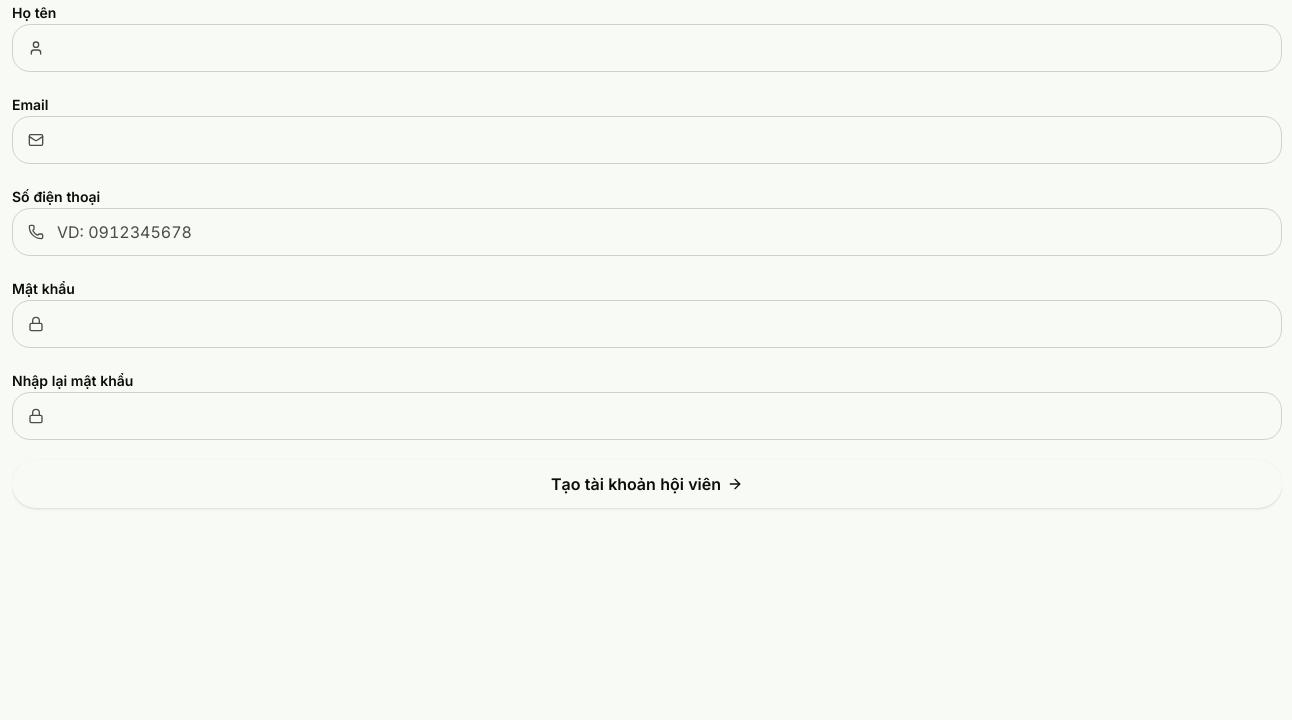
Test: auth account forms › shows duplicate phone error on signup
Step 1. Type "Existing Phone" into the field labelled "Họ tên" → (647, 48), box [12, 24, 1282, 72]
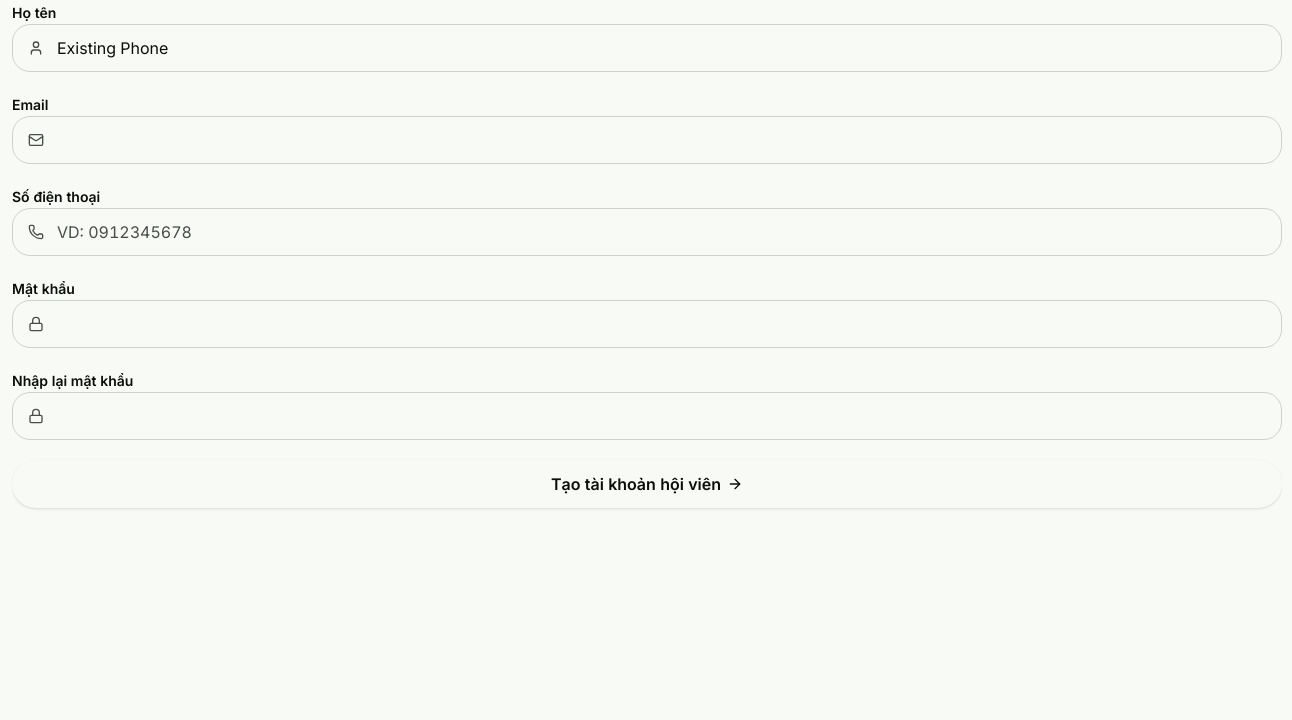
Step 2. Type "new-phone@gymmaster.local" into the field labelled "Email" → (647, 140), box [12, 116, 1282, 164]
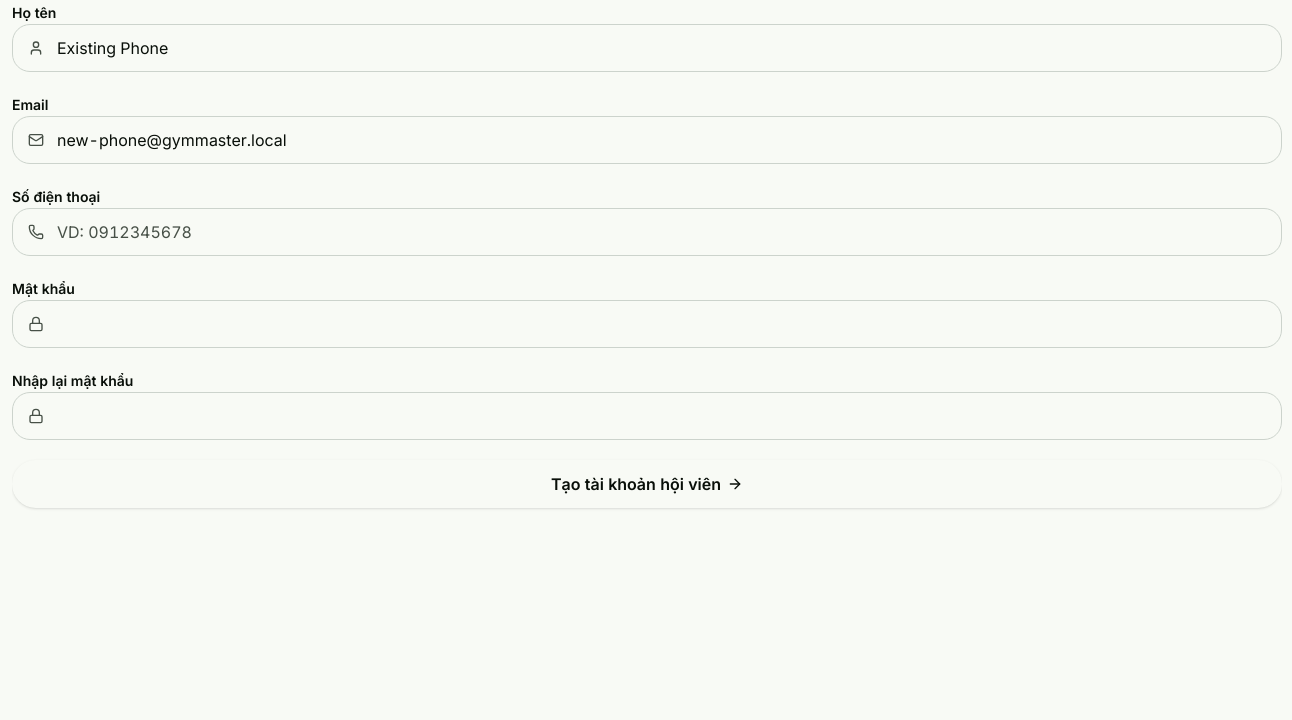
Step 3. Type "0900000000" into the field labelled "Số điện thoại" → (647, 232), box [12, 208, 1282, 256]
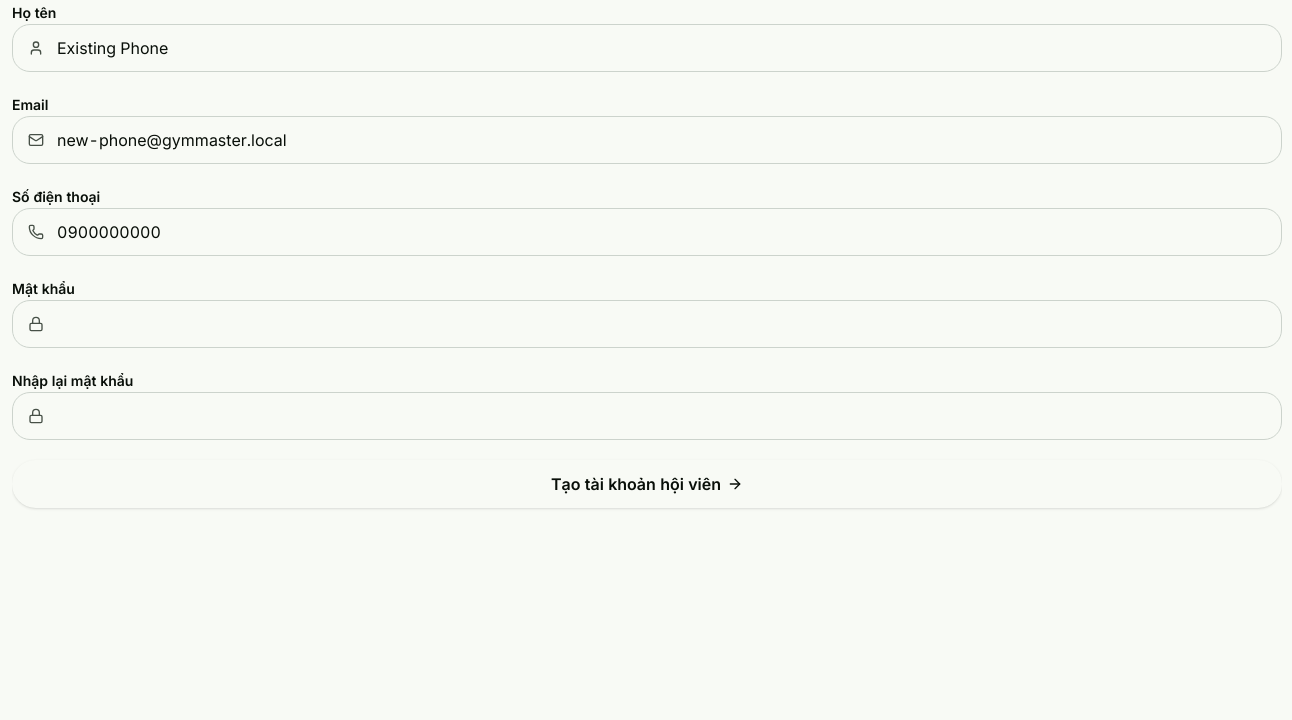
Step 4. Type "Password123!" into the password field labelled "Mật khẩu" → (647, 324), box [12, 300, 1282, 348]
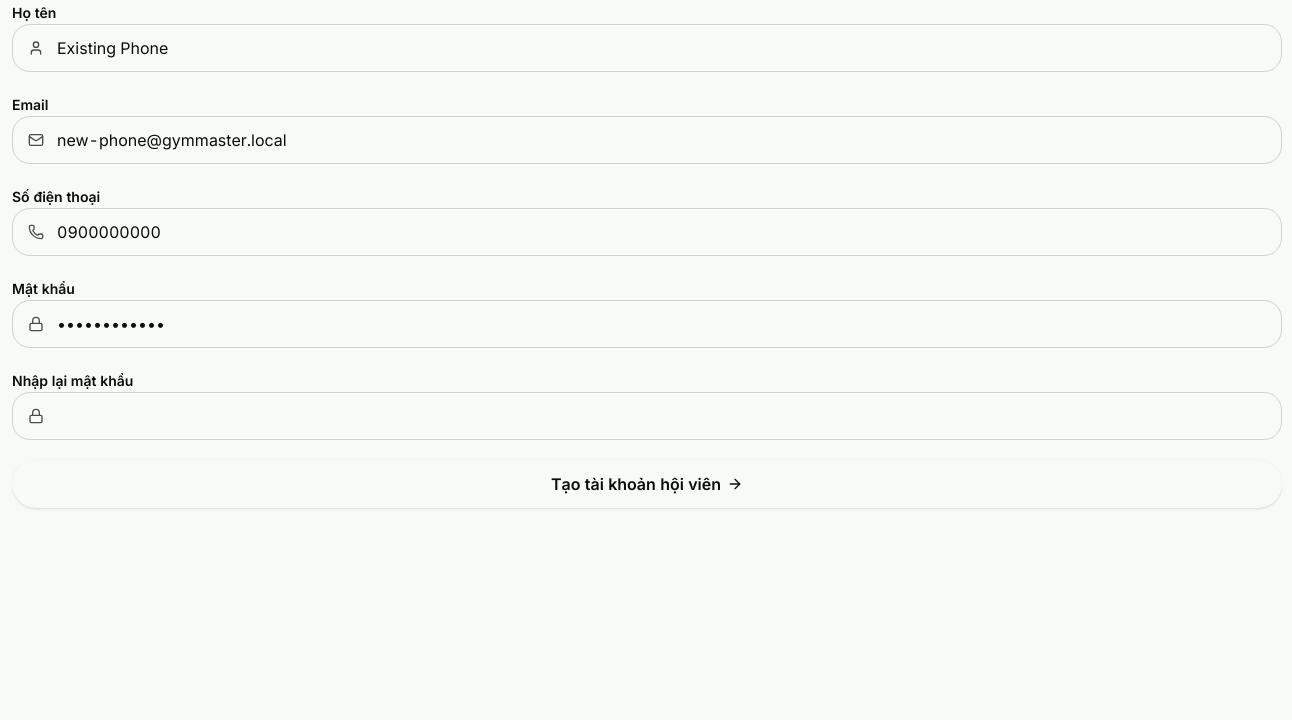
Step 5. Type "Password123!" into the password field labelled "Nhập lại mật khẩu" → (647, 416), box [12, 392, 1282, 440]
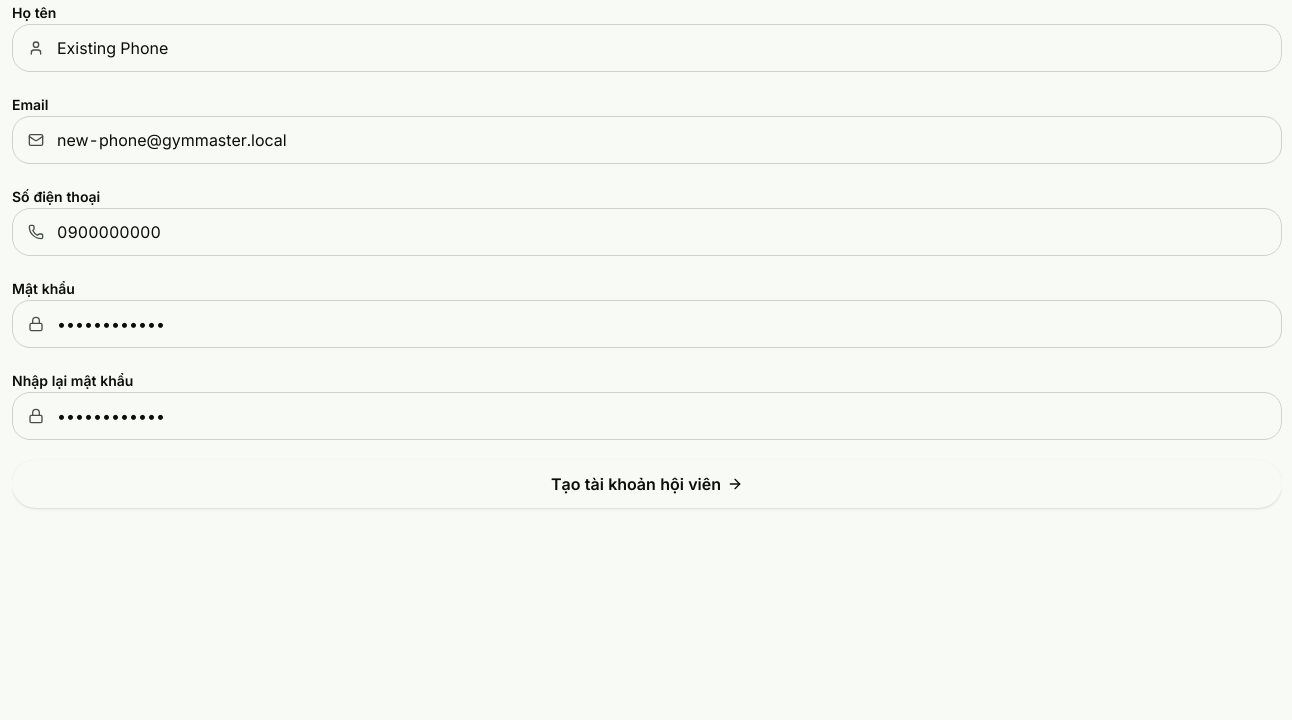
Step 6. Click the button "Tạo tài khoản hội viên" → (647, 484), box [12, 460, 1282, 508]
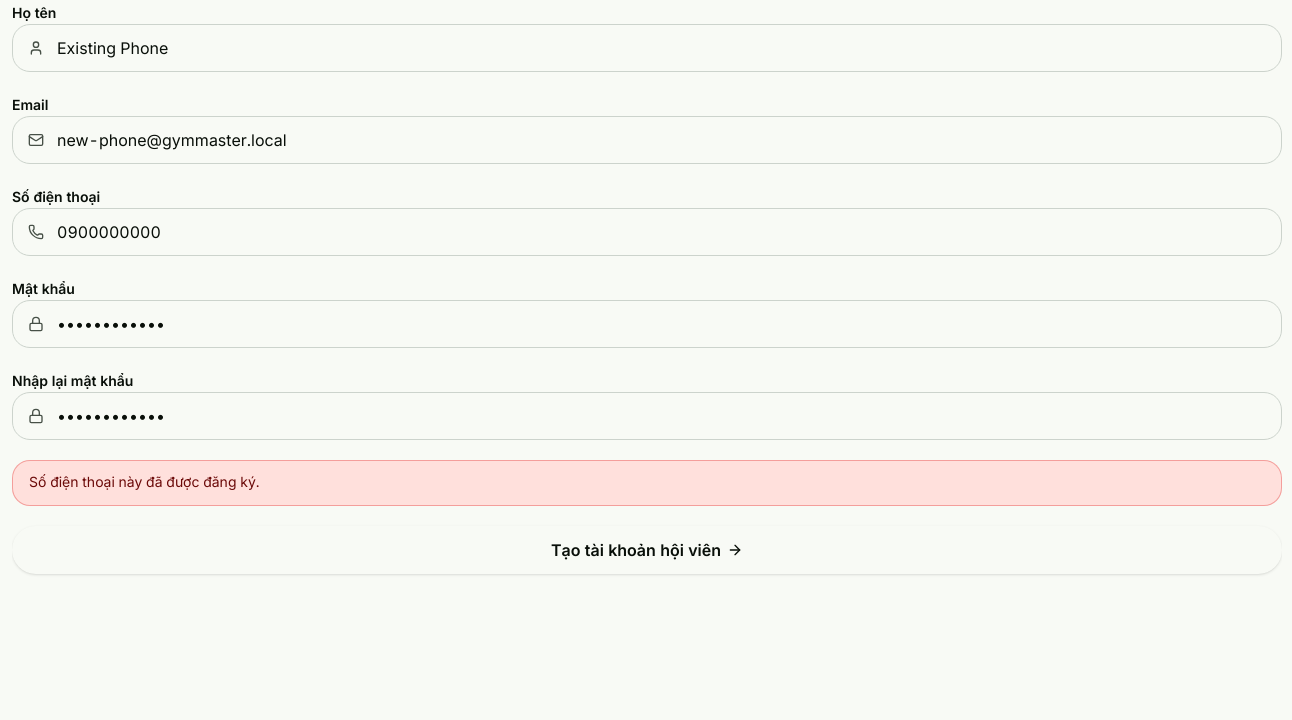
Expected: the text "Số điện thoại này đã được đăng ký." is shown, [12, 460, 1282, 506]
